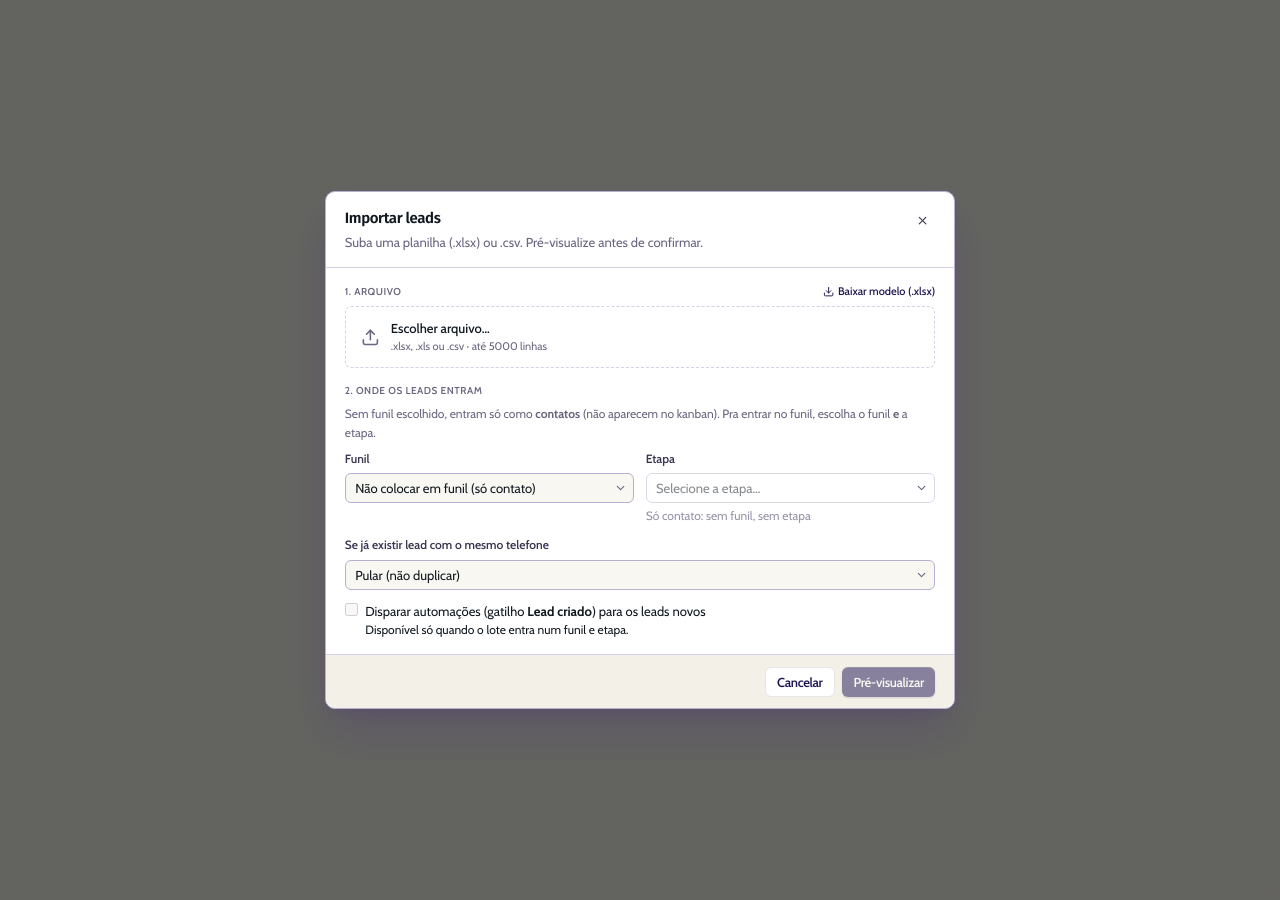
Test: ImportLeadsModal — opt-in de automações › desfazer a etapa desmarca visualmente o checkbox (não fica ligado escondido)
Select "Reps (padrão)" in the dropdown with test id "import-funil-select" at (490, 488), box [345,473,634,503]
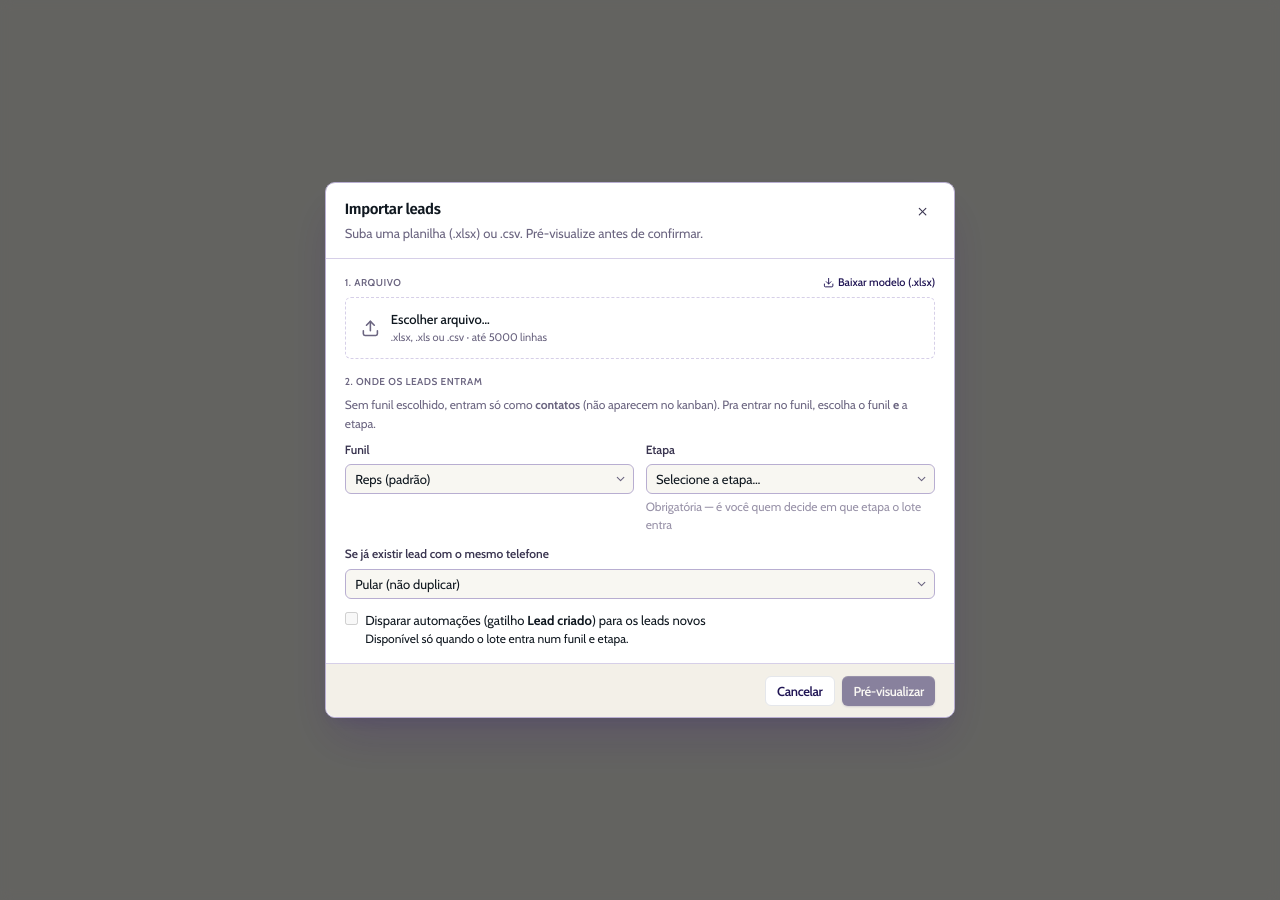
Select "Prospecção" in the dropdown with test id "import-etapa-select" at (790, 479), box [646,464,935,494]
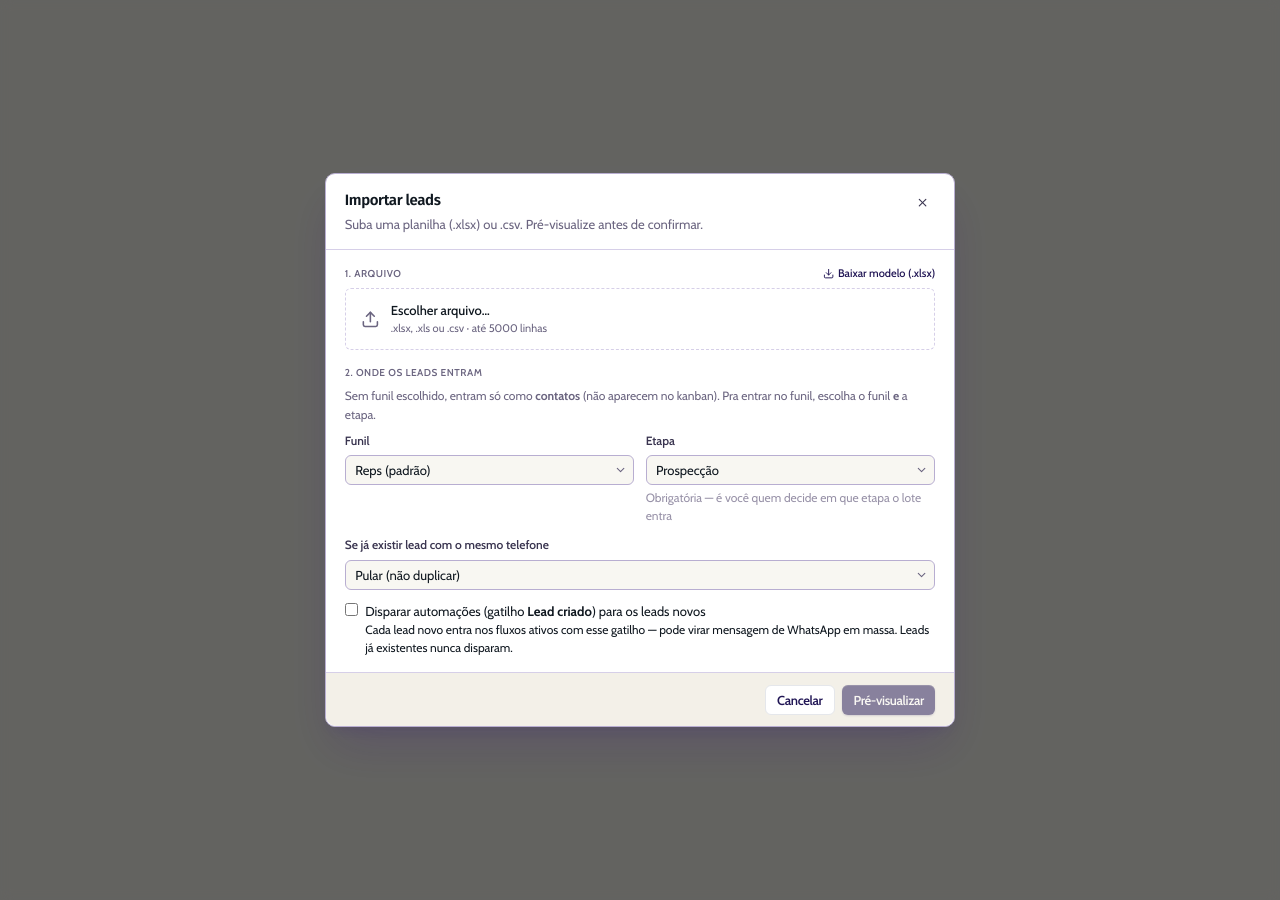
Click the checkbox with test id "import-disparar-reguas" at (351, 610), box [345,603,358,616]
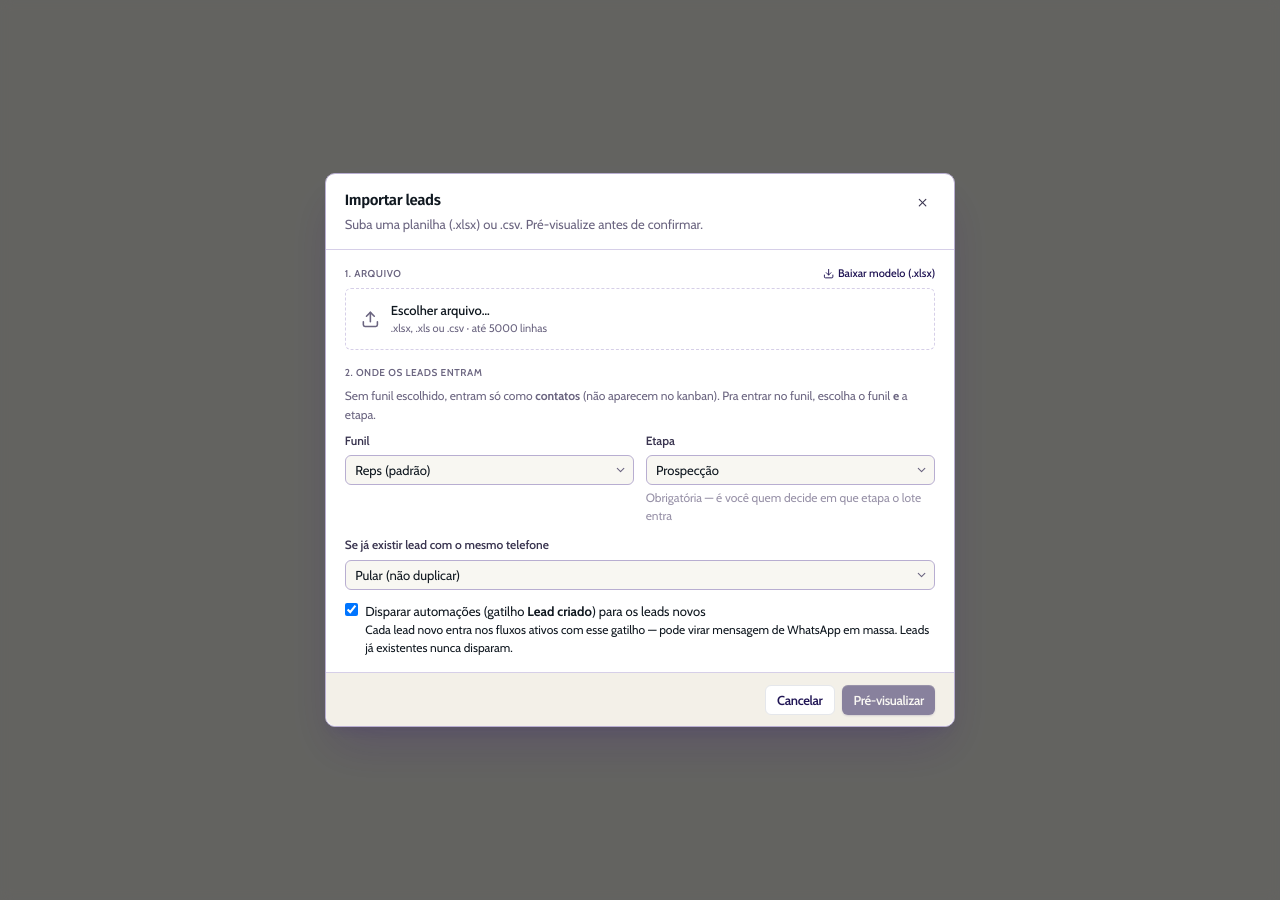
Select "Selecione a etapa…" in the dropdown with test id "import-etapa-select" at (790, 470), box [646,455,935,485]
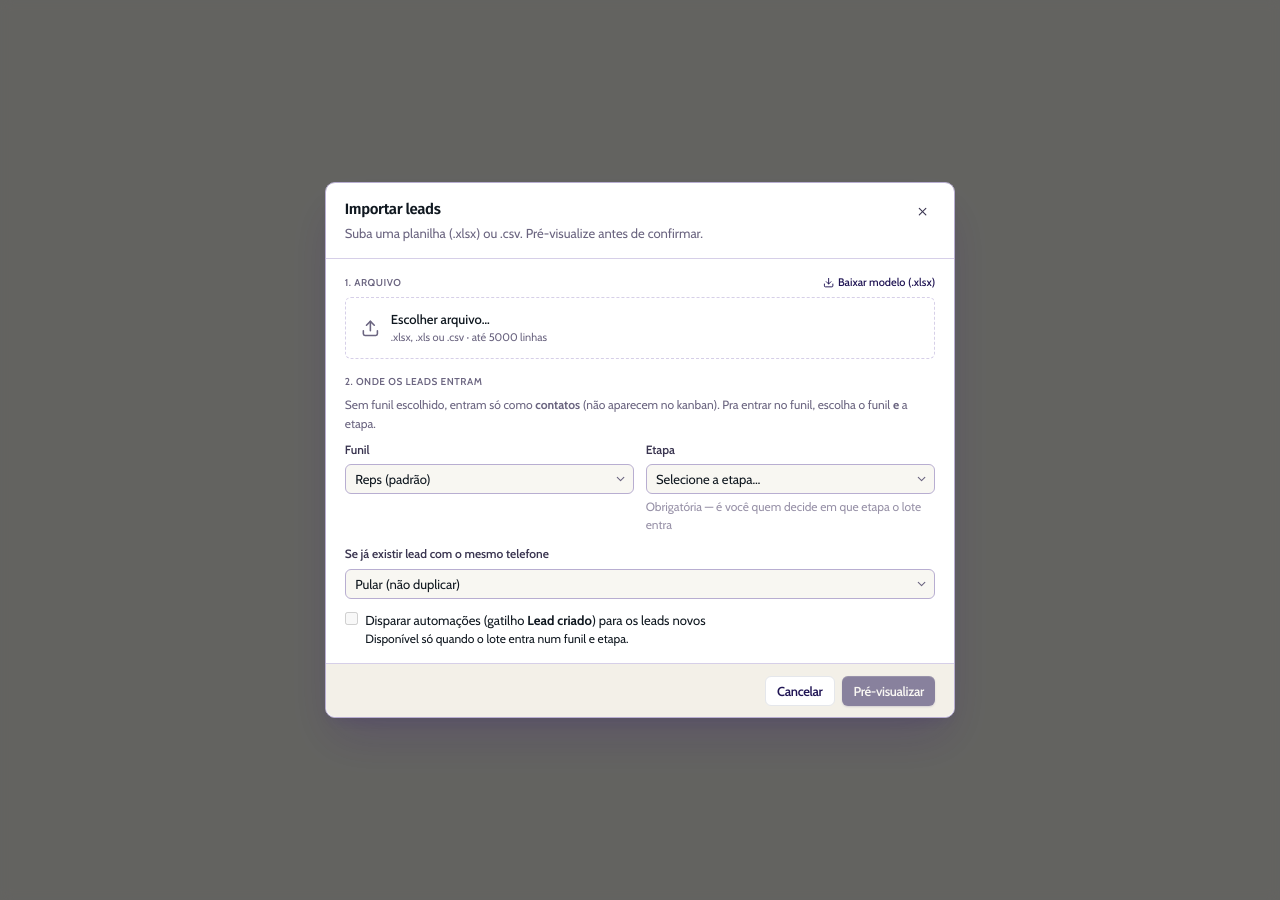
Expected: the checkbox with test id "import-disparar-reguas" is not checked, [345,612,358,625]
Expected: the checkbox with test id "import-disparar-reguas" is disabled, [345,612,358,625]
